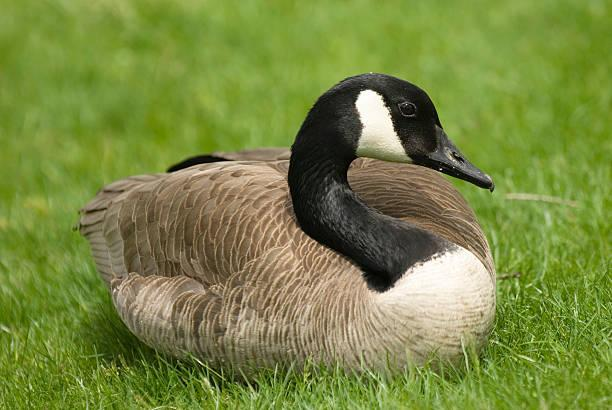Canadian-Goose: (78, 70, 502, 371)
